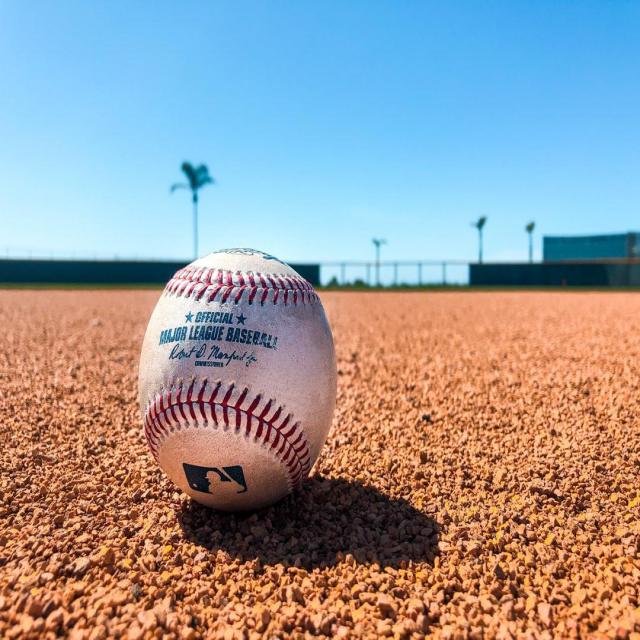baseball: (136, 248, 338, 503)
